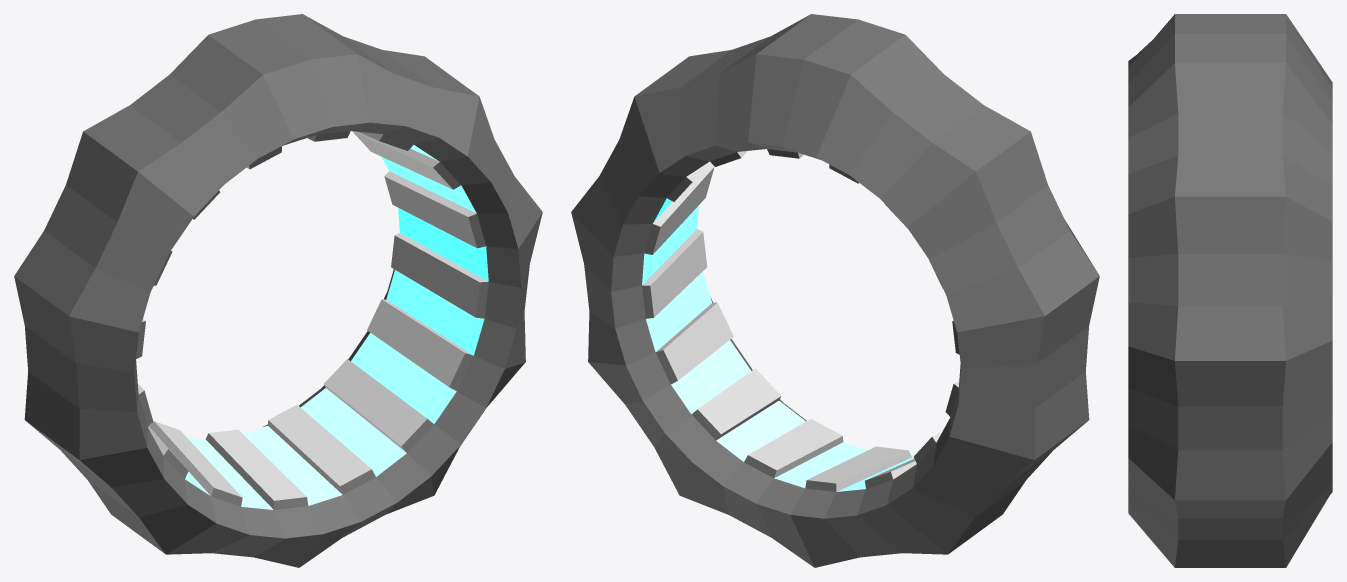
File: Booster.fbx
3 renders of one model, left to right at view 1: azimuth 30°, elevation 25°; view 2: azimuth 150°, elevation 25°; view 3: azimuth 270°, elevation 25°, orthographic.
Visible parts, largest first — view 1: Cylinder; view 2: Cylinder; view 3: Cylinder.
Boxes of the visible parts, x1,y1,x2,y2 form: Cylinder: [14, 14, 542, 567]; Cylinder: [571, 14, 1099, 567]; Cylinder: [1128, 14, 1332, 567].
Size of the model in its own units: 795 by 811 by 293.
